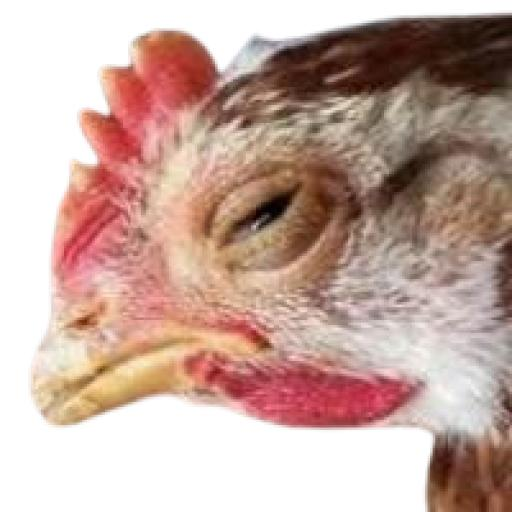disease: (171, 145, 362, 291), (58, 10, 230, 102)
